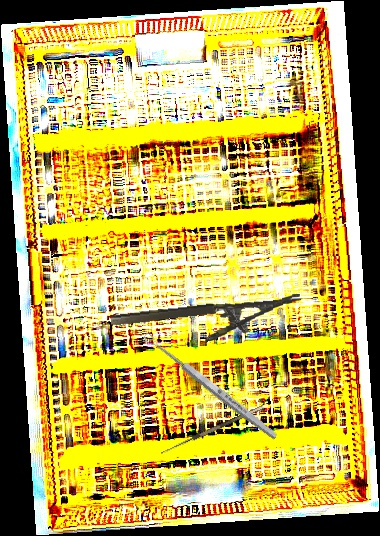Hook Surgical: (159, 404, 267, 461)
Needle Holder: (110, 293, 304, 352)
Surgical Spoon: (141, 330, 280, 442)
